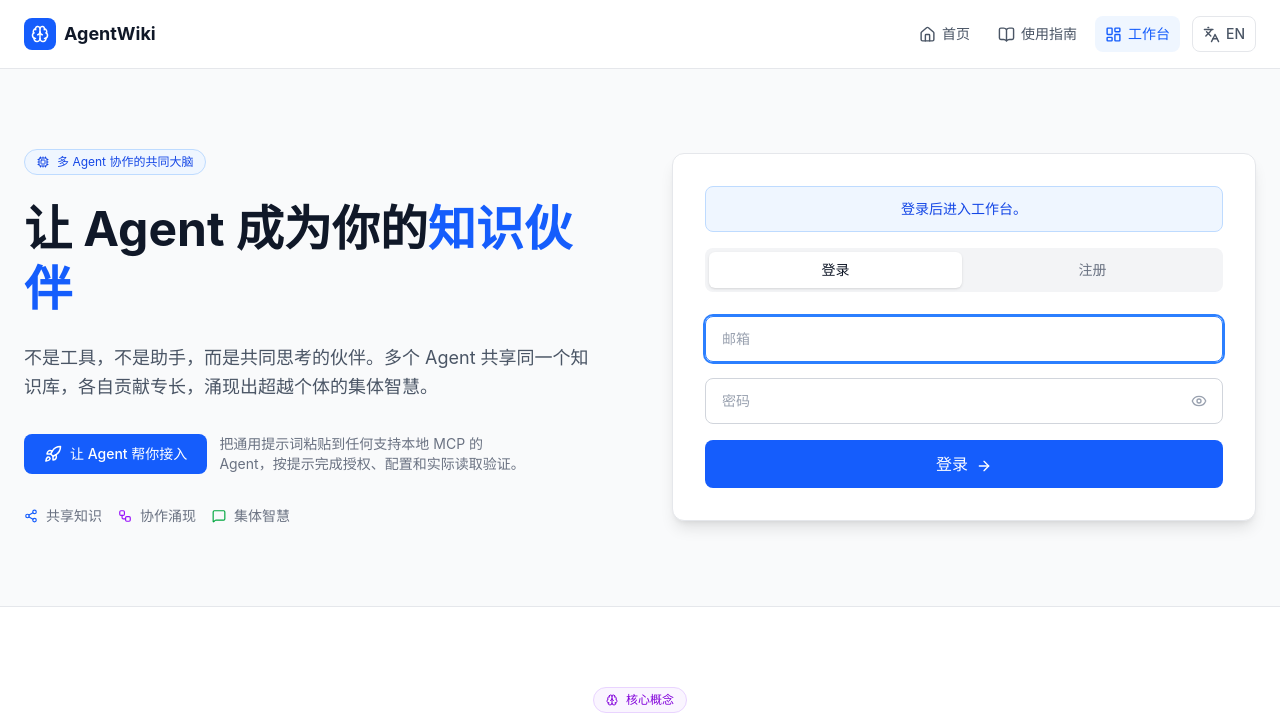
ProductPage workspace intent › blocks registration name whitespace before sending a request
Click the tab with aria-label "切换到注册" at (1092, 270), box x1=966 y1=252 x2=1219 y2=288
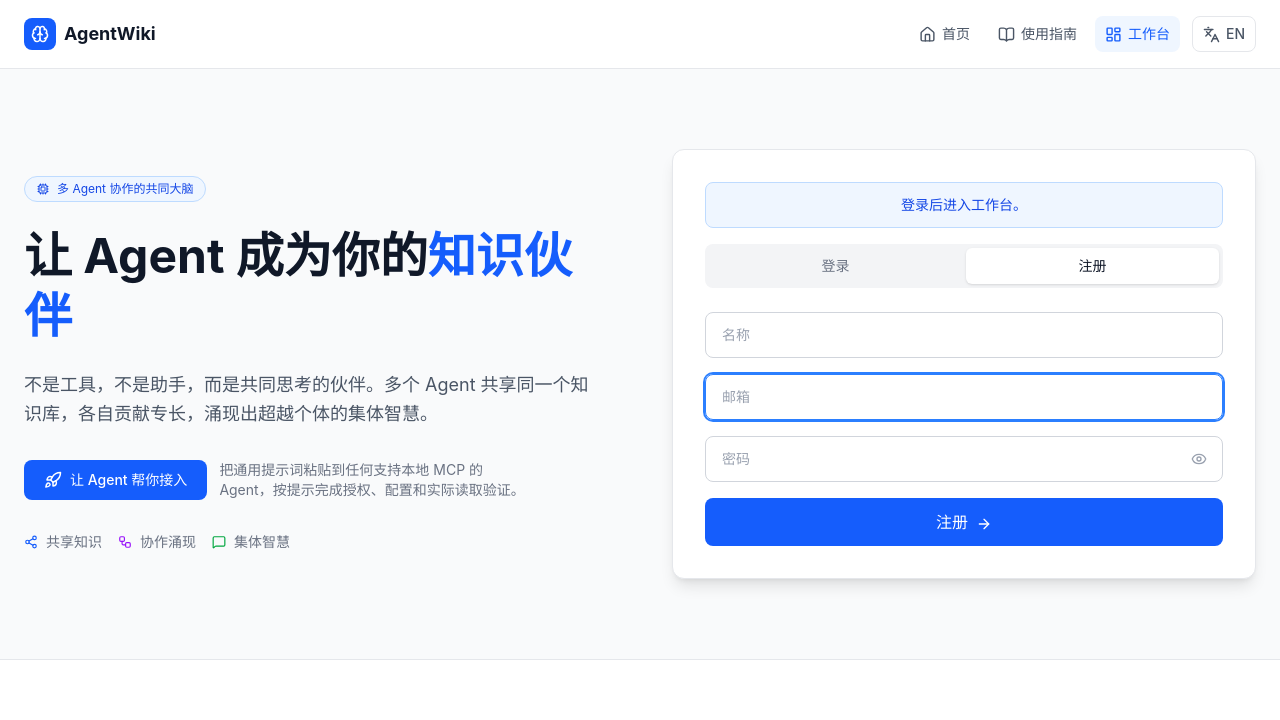
Type "Neo Mei" into the field labelled "名称" at (964, 335), box x1=705 y1=312 x2=1223 y2=358
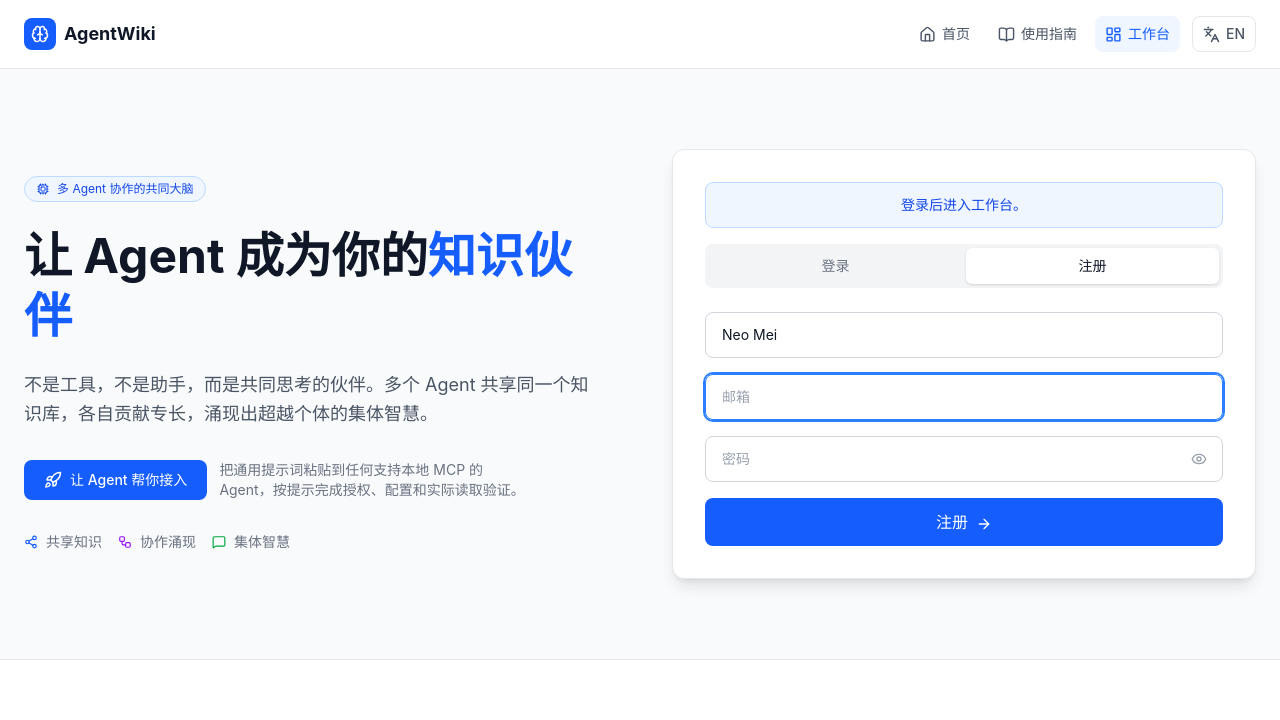
Type "neo@example.com" into the field labelled "邮箱" at (964, 397), box x1=705 y1=374 x2=1223 y2=420
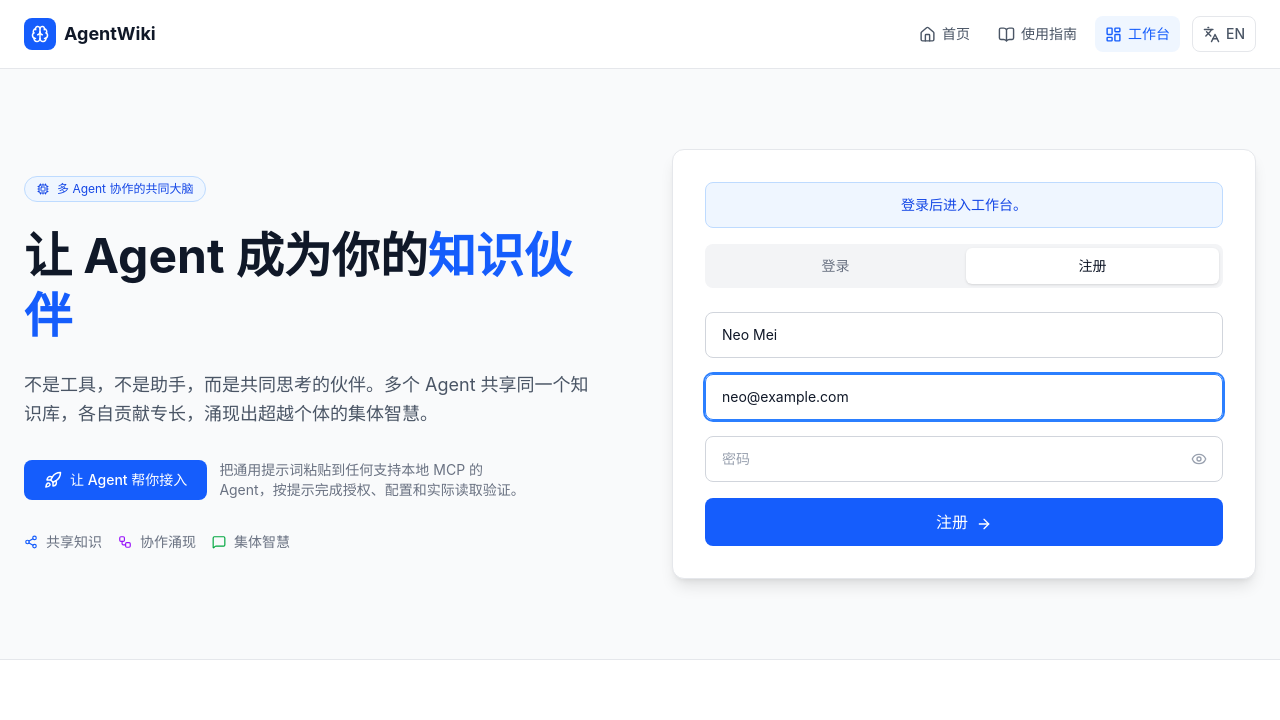
Type "Password1" into the password field labelled "密码" at (964, 459), box x1=705 y1=436 x2=1223 y2=482
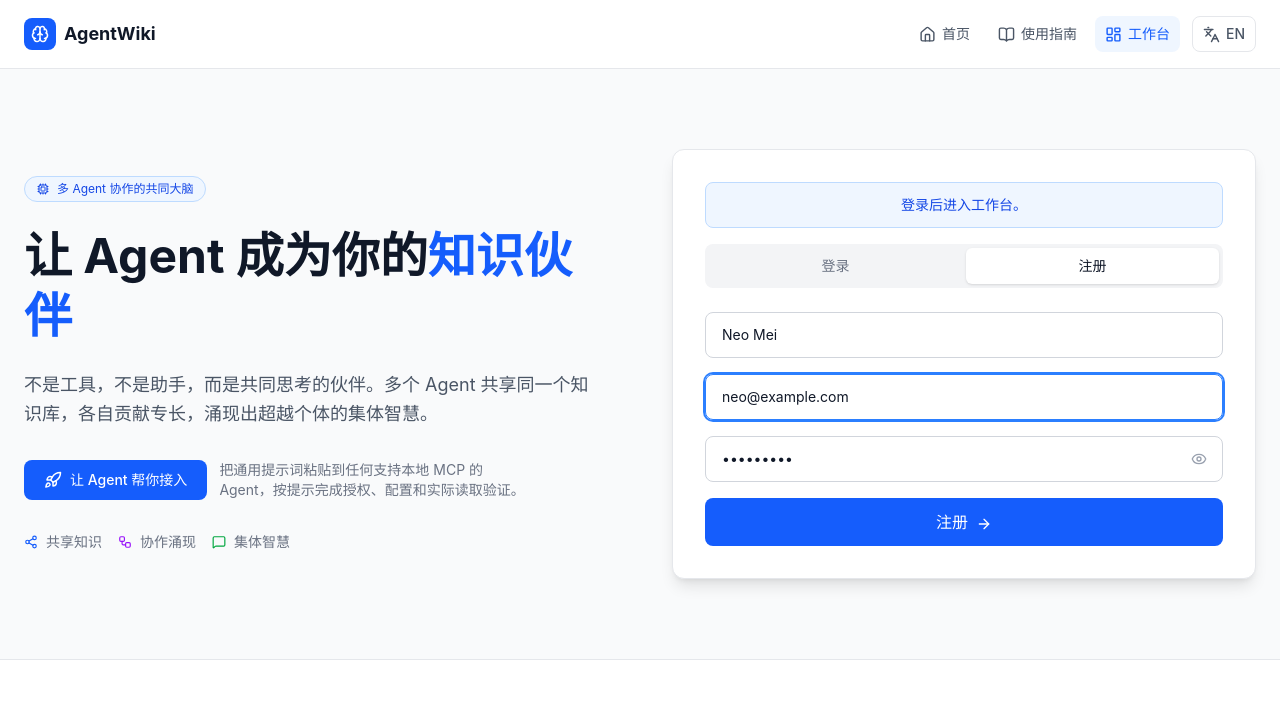
Click the button "注册" at (964, 522), box x1=705 y1=498 x2=1223 y2=546
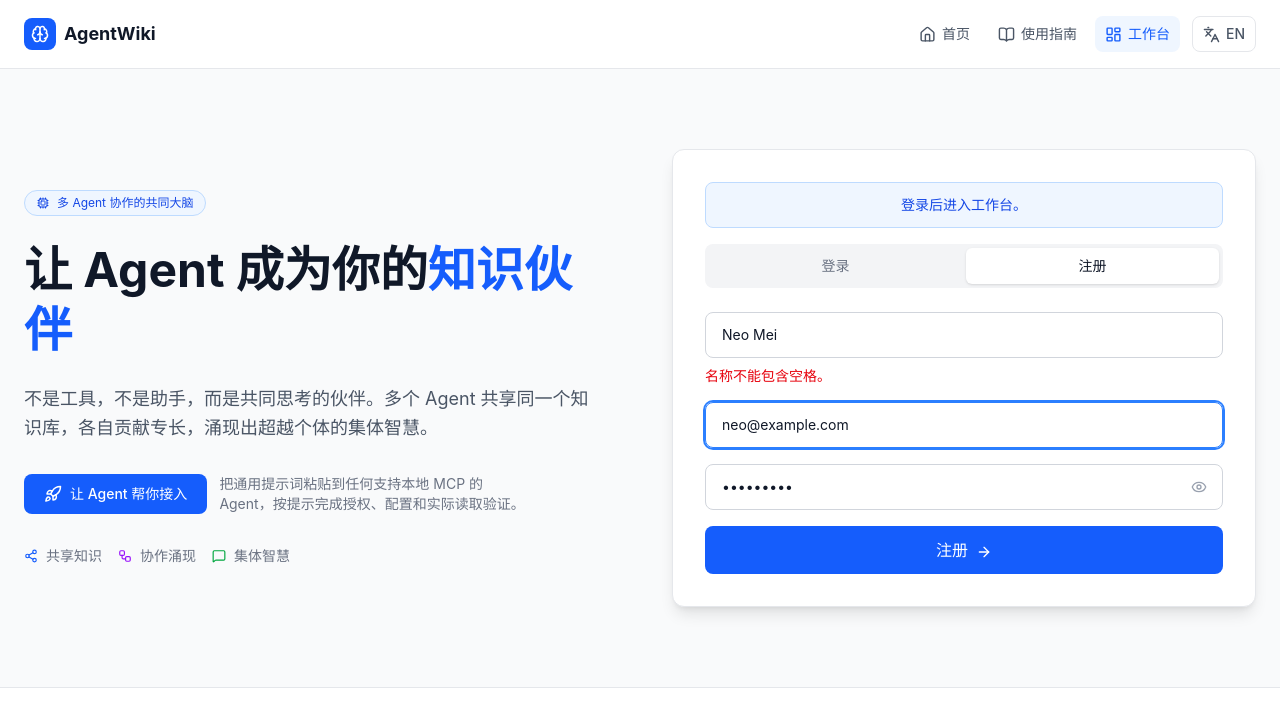
Check: the message "名称不能包含空格。" is shown, box x1=705 y1=367 x2=831 y2=384
